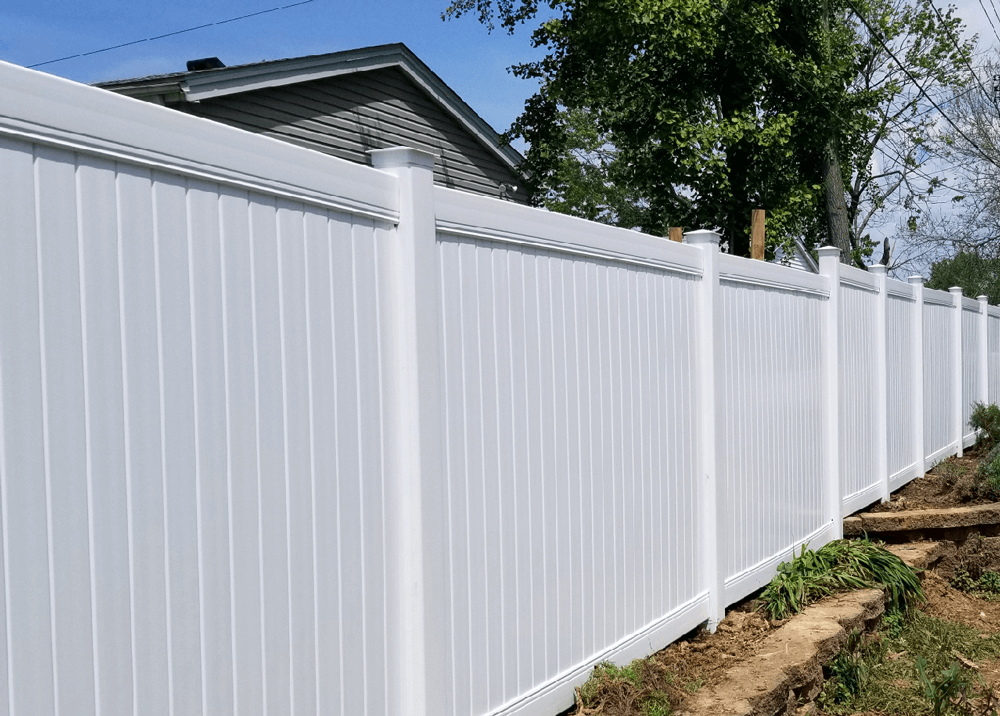Valla: (1, 147, 404, 712), (410, 232, 702, 715), (713, 263, 834, 606)
